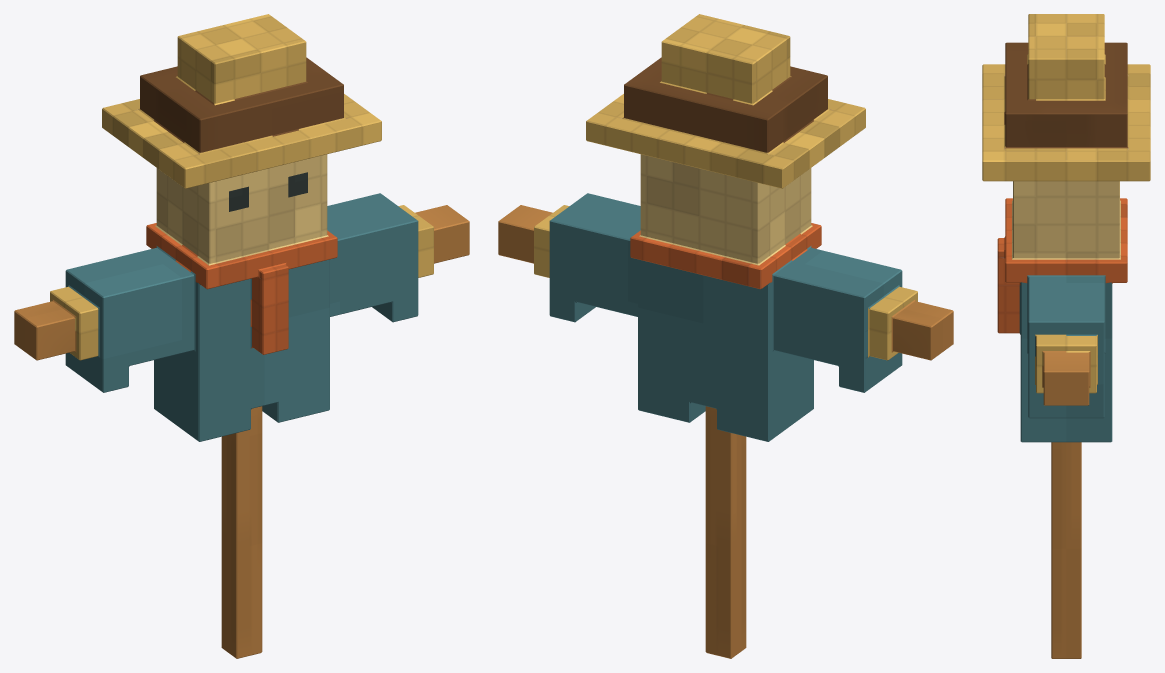
The model's file is SM_VMF_Prop_Scarecrow.fbx.
3 views of the same model, side by side, from view 1: azimuth 30°, elevation 25°; view 2: azimuth 150°, elevation 25°; view 3: azimuth 270°, elevation 25° (orthographic).
Visible parts, largest first — view 1: SM_VMF_Prop_Scarecrow_Upper, SM_VMF_Prop_Scarecrow_Post; view 2: SM_VMF_Prop_Scarecrow_Upper, SM_VMF_Prop_Scarecrow_Post; view 3: SM_VMF_Prop_Scarecrow_Upper, SM_VMF_Prop_Scarecrow_Post.
Part boxes in pixels (x1,y1,x2,y2): SM_VMF_Prop_Scarecrow_Upper: (14,14,469,441); SM_VMF_Prop_Scarecrow_Post: (221,406,262,658); SM_VMF_Prop_Scarecrow_Upper: (498,14,953,441); SM_VMF_Prop_Scarecrow_Post: (705,406,746,658); SM_VMF_Prop_Scarecrow_Upper: (982,14,1150,442); SM_VMF_Prop_Scarecrow_Post: (1051,442,1081,658).
Bounding box in the file's own units: 132 × 178 × 44.
1 material, 1 textured.
